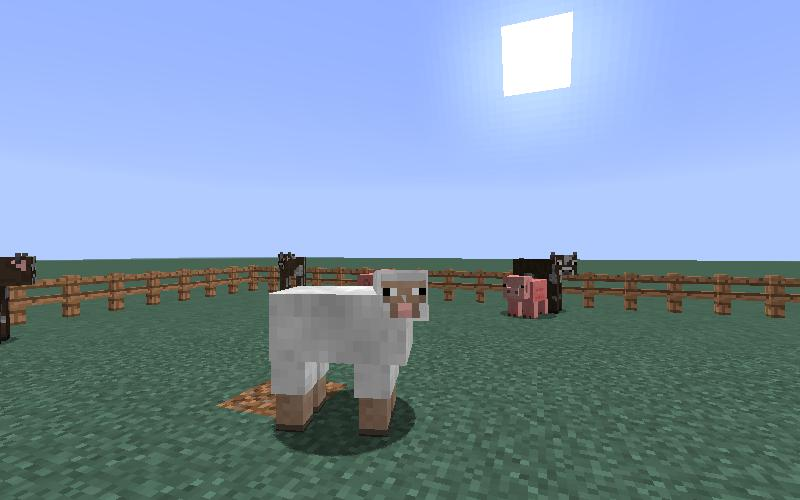cow: (1, 254, 39, 343), (277, 250, 306, 291)
pig: (499, 267, 552, 324)
sheep: (260, 258, 434, 435)
